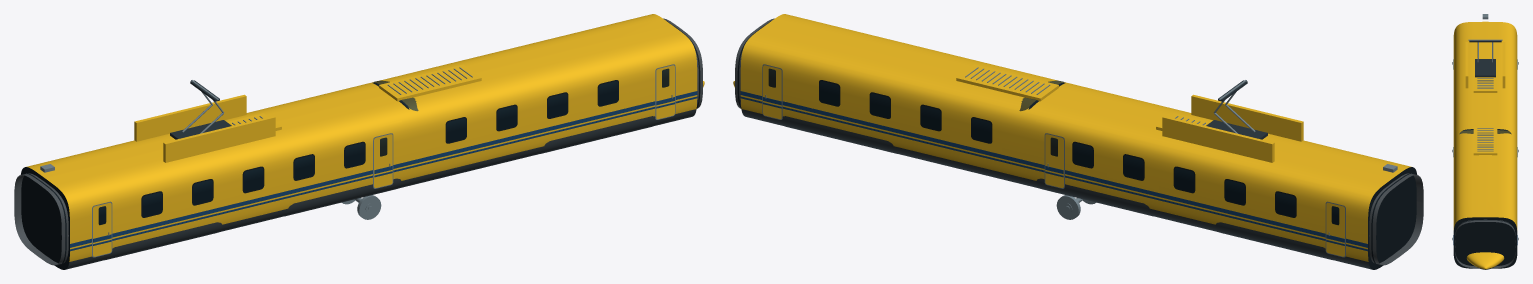
The model's file is doctor-yellow.glb.
3 renders of one model, left to right at view 1: azimuth 30°, elevation 25°; view 2: azimuth 150°, elevation 25°; view 3: azimuth 270°, elevation 25°, orthographic. The views are drawn at different scales.
Parts seen in each view (by area): view 1: car-shell__LIVERY_0, cab-shell__LIVERY_0, pantograph__LIVERY_0, body__RUBBER, body__LIVERY_0.001, car-shell__LIVERY_1, body__RUBBER.001, body__GLASS, cab-skirt__CAB_PAINT, car-shell__CAB_PAINT, cab-skirt__CAB_PAINT.001, body__GLASS.001 (+8 smaller); view 2: car-shell__LIVERY_0, cab-shell__LIVERY_0, pantograph__LIVERY_0, body__RUBBER.001, body__LIVERY_0.001, car-shell__LIVERY_1, body__RUBBER, body__GLASS, cab-skirt__CAB_PAINT, car-shell__CAB_PAINT, cab-skirt__CAB_PAINT.001, body__GLASS.001 (+8 smaller); view 3: car-shell__LIVERY_0, body__RUBBER.001, body__LIVERY_0.001, cab-shell__LIVERY_0, pantograph__MACHINERY, body__STAINLESS.001, pantograph__LIVERY_0, inter-car-bellows__BELLOWS.001, pantograph__STAINLESS, cab-window-glazing__CAB_GLASS, inter-car-bellows__RUBBER.001, body__STAINLESS.
Boxes of the visible parts, bbox=[...] form: car-shell__LIVERY_0: bbox=[26, 14, 697, 260]; cab-shell__LIVERY_0: bbox=[65, 81, 704, 261]; pantograph__LIVERY_0: bbox=[134, 94, 275, 162]; body__RUBBER: bbox=[20, 141, 365, 269]; body__LIVERY_0.001: bbox=[227, 64, 674, 130]; car-shell__LIVERY_1: bbox=[70, 91, 697, 251]; body__RUBBER.001: bbox=[21, 80, 618, 267]; body__GLASS: bbox=[98, 137, 387, 224]; cab-skirt__CAB_PAINT: bbox=[106, 178, 401, 259]; car-shell__CAB_PAINT: bbox=[67, 109, 696, 268]; cab-skirt__CAB_PAINT.001: bbox=[106, 116, 657, 259]; body__GLASS.001: bbox=[304, 68, 669, 157]; car-shell__LIVERY_0: bbox=[740, 14, 1411, 260]; cab-shell__LIVERY_0: bbox=[733, 81, 1372, 261]; pantograph__LIVERY_0: bbox=[1162, 94, 1303, 162]; body__RUBBER.001: bbox=[819, 80, 1416, 269]; body__LIVERY_0.001: bbox=[763, 64, 1210, 130]; car-shell__LIVERY_1: bbox=[740, 91, 1367, 251]; body__RUBBER: bbox=[1072, 141, 1417, 269]; body__GLASS: bbox=[1050, 137, 1339, 224]; cab-skirt__CAB_PAINT: bbox=[1036, 178, 1331, 259]; car-shell__CAB_PAINT: bbox=[741, 109, 1370, 268]; cab-skirt__CAB_PAINT.001: bbox=[780, 116, 1331, 259]; body__GLASS.001: bbox=[768, 68, 1133, 157]; car-shell__LIVERY_0: bbox=[1453, 21, 1517, 229]; body__RUBBER.001: bbox=[1453, 217, 1517, 268]; body__LIVERY_0.001: bbox=[1473, 64, 1497, 155]; cab-shell__LIVERY_0: bbox=[1455, 24, 1515, 269]; pantograph__MACHINERY: bbox=[1469, 40, 1501, 77]; body__STAINLESS.001: bbox=[1452, 62, 1518, 240]; pantograph__LIVERY_0: bbox=[1465, 42, 1505, 88]; inter-car-bellows__BELLOWS.001: bbox=[1455, 219, 1515, 268]; pantograph__STAINLESS: bbox=[1468, 39, 1502, 62]; cab-window-glazing__CAB_GLASS: bbox=[1459, 129, 1511, 134]; inter-car-bellows__RUBBER.001: bbox=[1455, 220, 1515, 258]; body__STAINLESS: bbox=[1452, 14, 1518, 152].
Size of the model in its own units: 26.02 by 5.93 by 3.49.
Materials: 13 (2 with a texture image).
